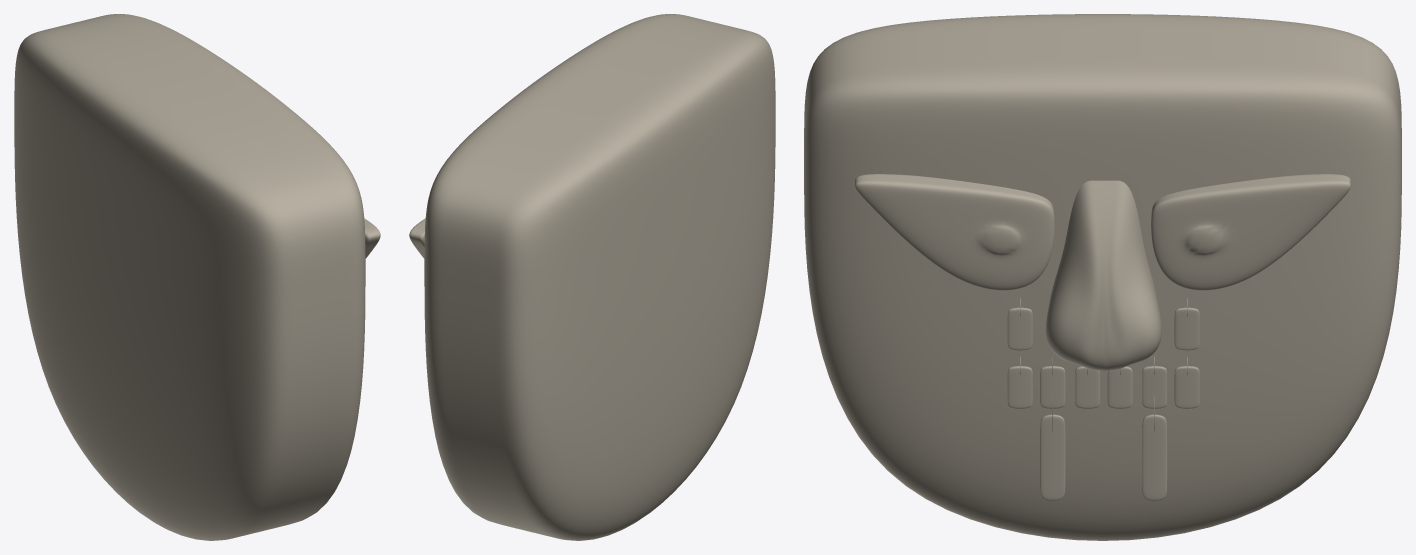
The model's file is Mascara2_Qhapaq.glb.
3 views of the same model, side by side, from view 1: azimuth 30°, elevation 25°; view 2: azimuth 150°, elevation 25°; view 3: azimuth 270°, elevation 25° (orthographic). The views are drawn at different scales.
Visible parts, largest first — view 1: Cubo.007; view 2: Cubo.007; view 3: Cubo.007.
Boxes of the visible parts, <box> form: Cubo.007: <box>14,14,380,540</box>; Cubo.007: <box>409,14,775,540</box>; Cubo.007: <box>804,14,1401,540</box>.
Size of the model in its own units: 0.2629 by 0.5454 by 0.62.
